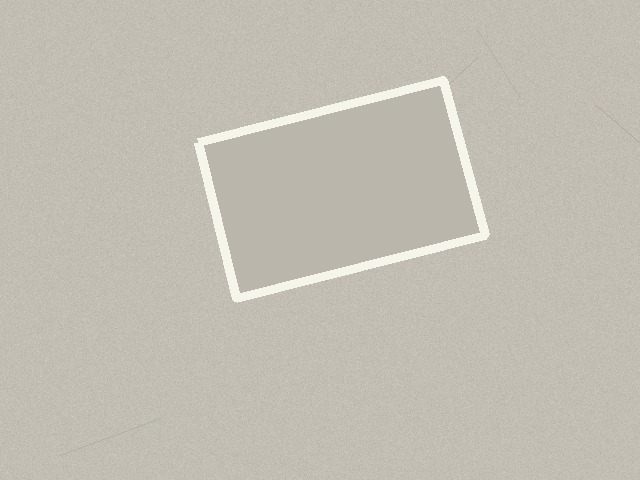parking_area: (198, 80, 485, 298)
